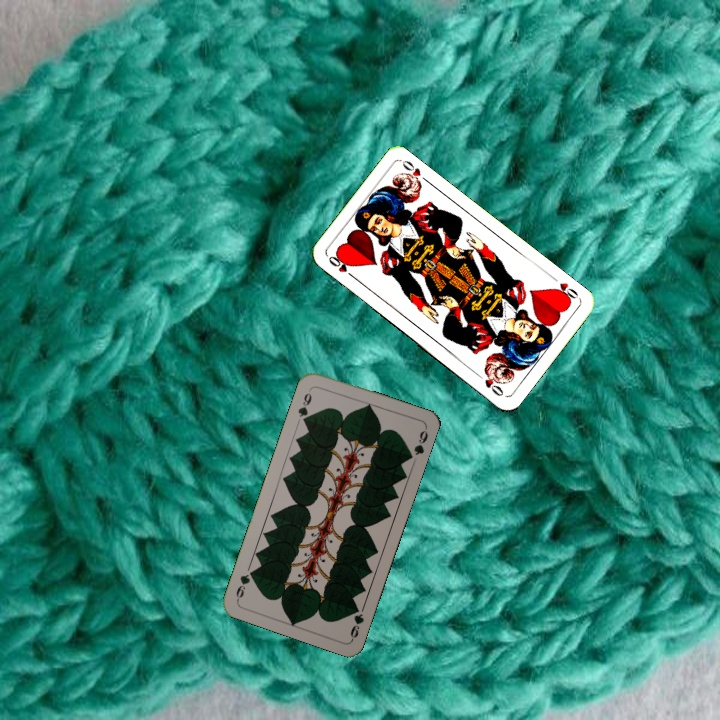G9: (346, 600, 366, 642), (294, 389, 314, 426)
HO: (324, 252, 358, 282), (549, 278, 582, 305)
